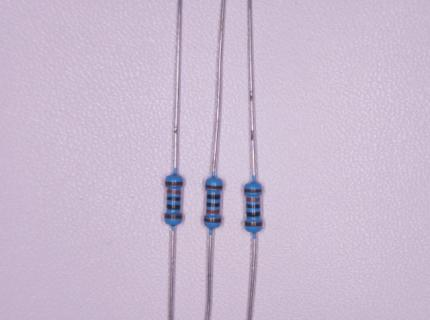Black band: (167, 205, 180, 210), (207, 203, 220, 207), (207, 195, 220, 199), (247, 204, 260, 208), (167, 197, 180, 201), (247, 213, 260, 216)
Brown band: (166, 214, 182, 219), (245, 222, 262, 226), (165, 181, 182, 185), (205, 219, 221, 223), (245, 189, 261, 193), (206, 185, 222, 189)
Orange band: (207, 210, 219, 214), (247, 197, 259, 201), (168, 190, 181, 193)
